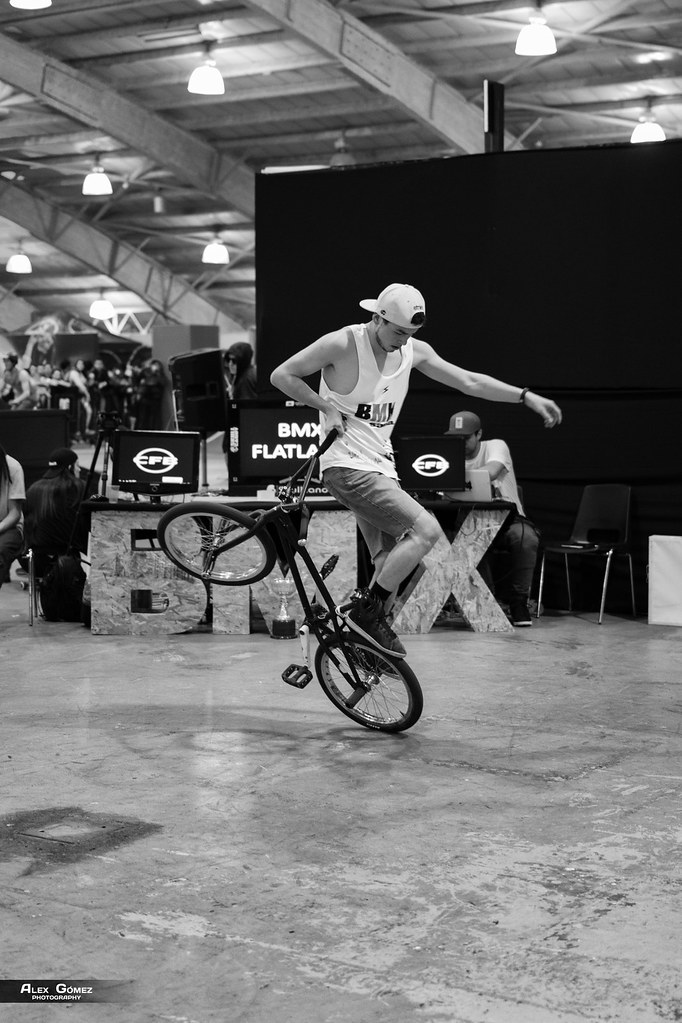cycle: (130, 454, 486, 737)
person: (284, 256, 531, 594)
